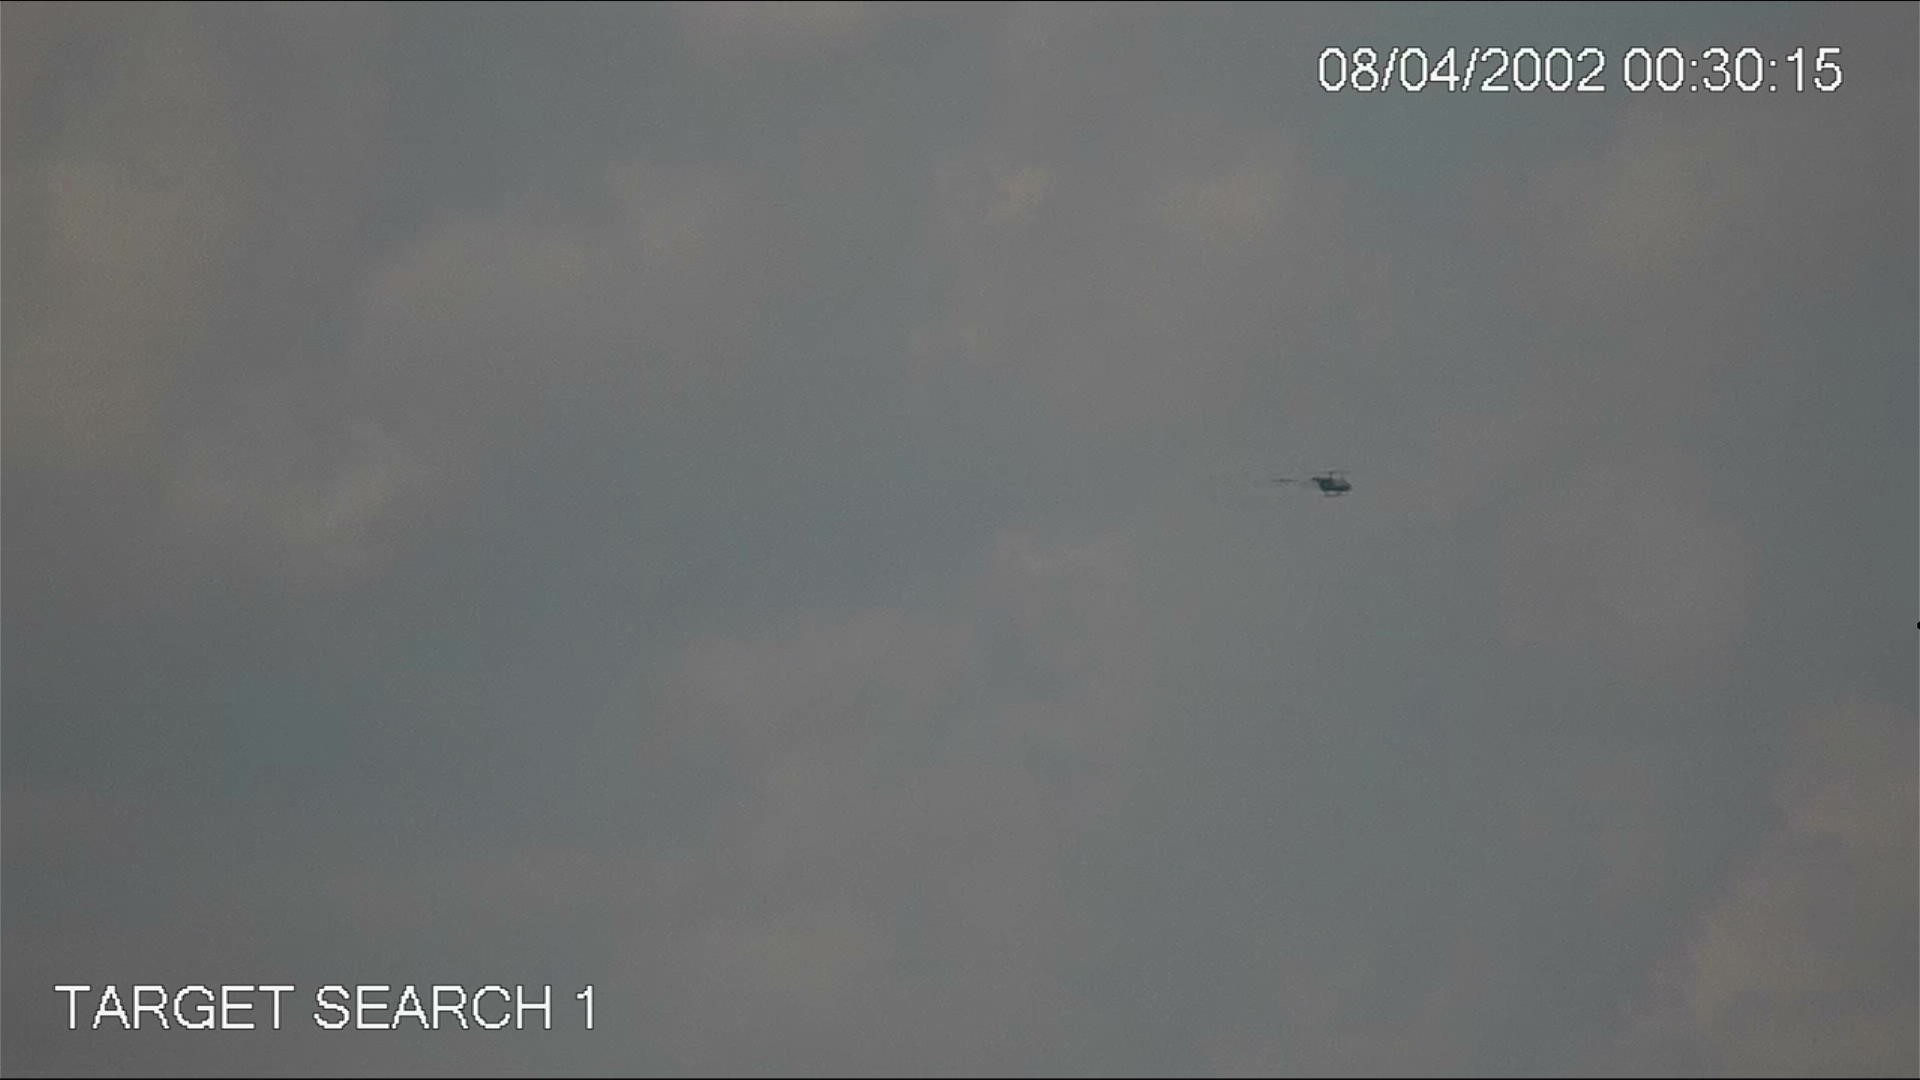SU_30: (1273, 464, 1360, 501)
